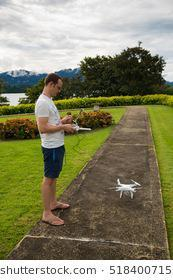drone: (100, 166, 148, 217)
